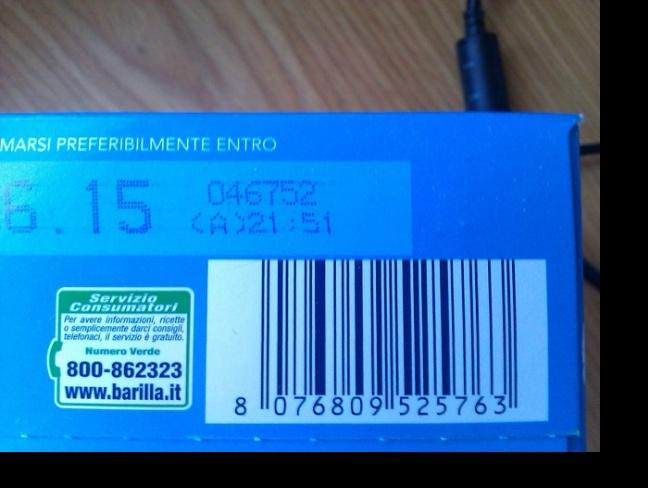Barcode: (226, 259, 526, 422)
